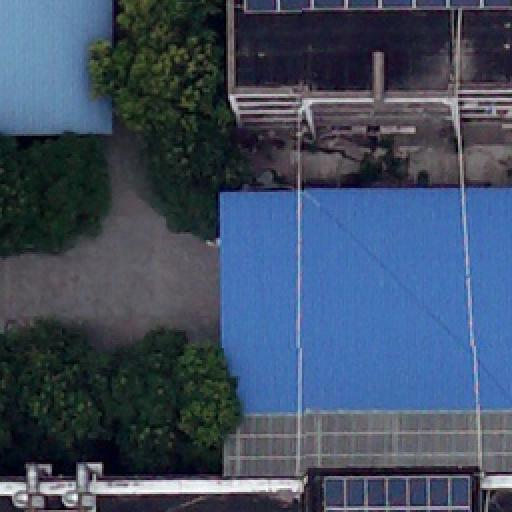solar-panel: (323, 476, 469, 512), (244, 0, 512, 8)
